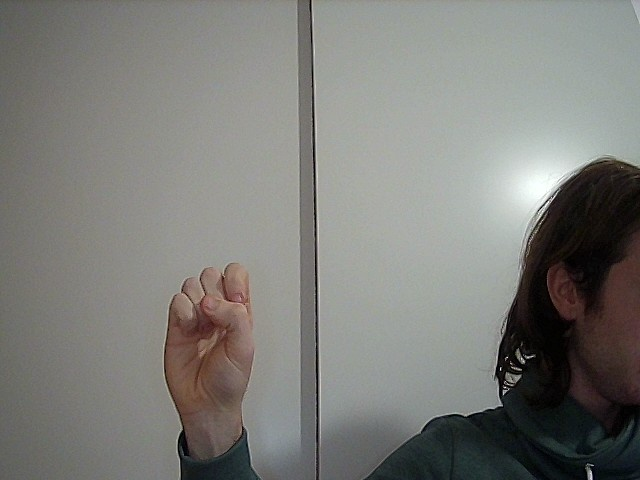s: (149, 253, 271, 419)
